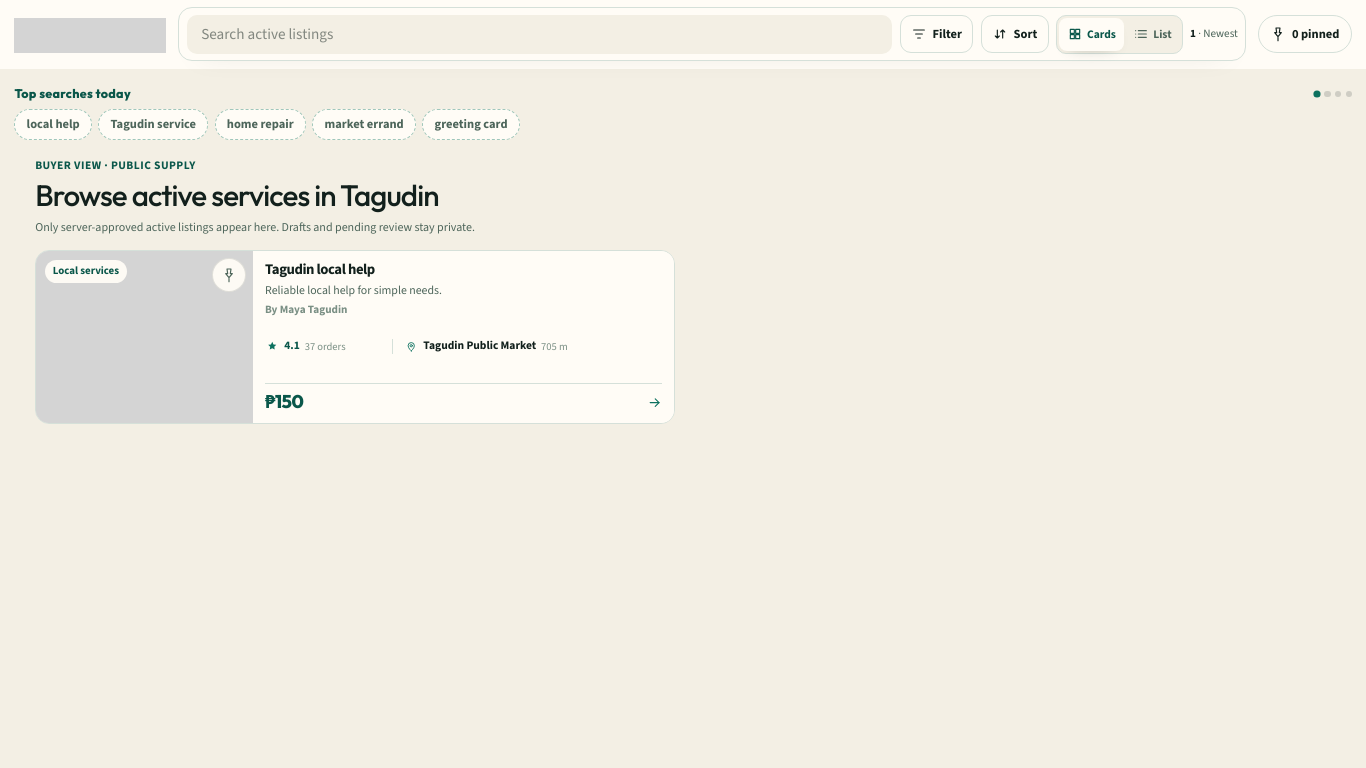
Scenario: BrowsePlp › pins a listing into the shortlist tray
The image size is (1366, 768).
Click the button named "Pin listing" at (229, 275), box [212,258,246,291]
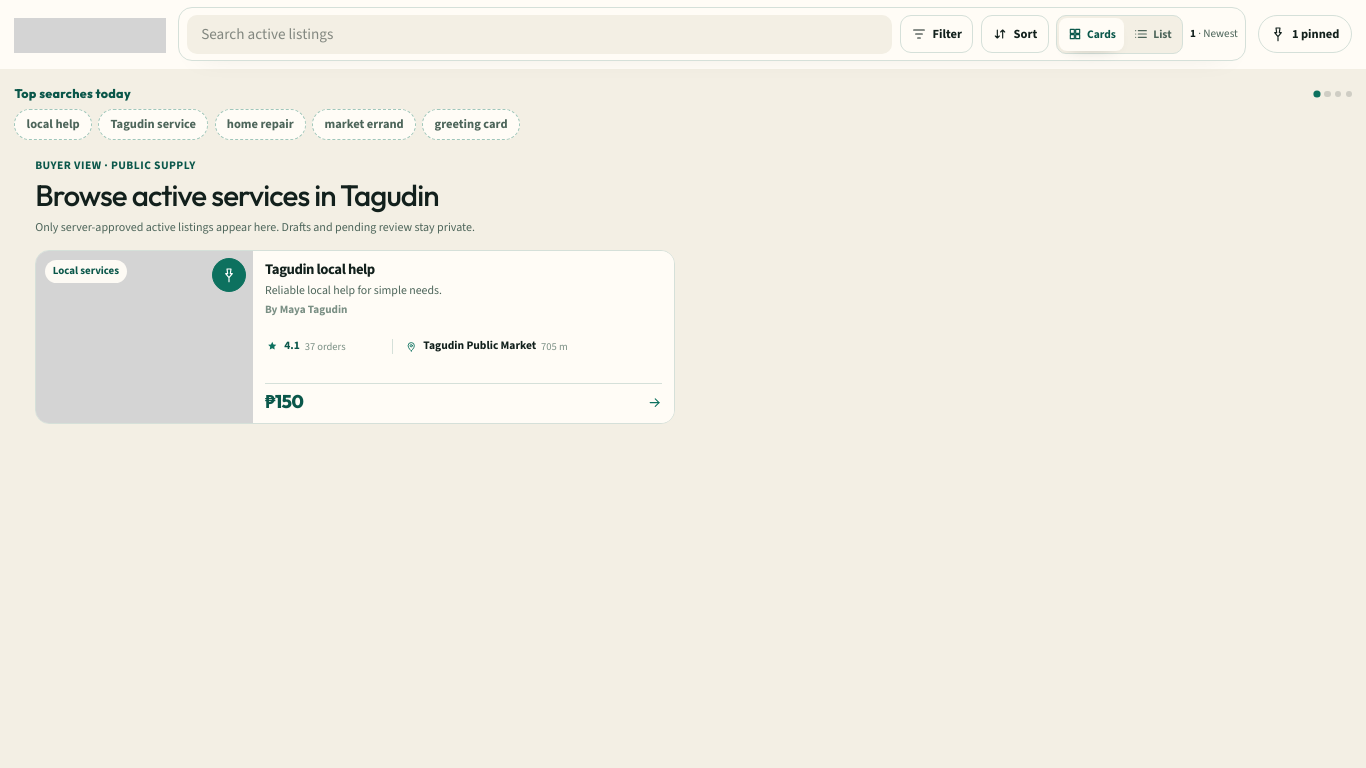
Click the button "1 pinned" at (1305, 34), box [1258,15,1352,53]
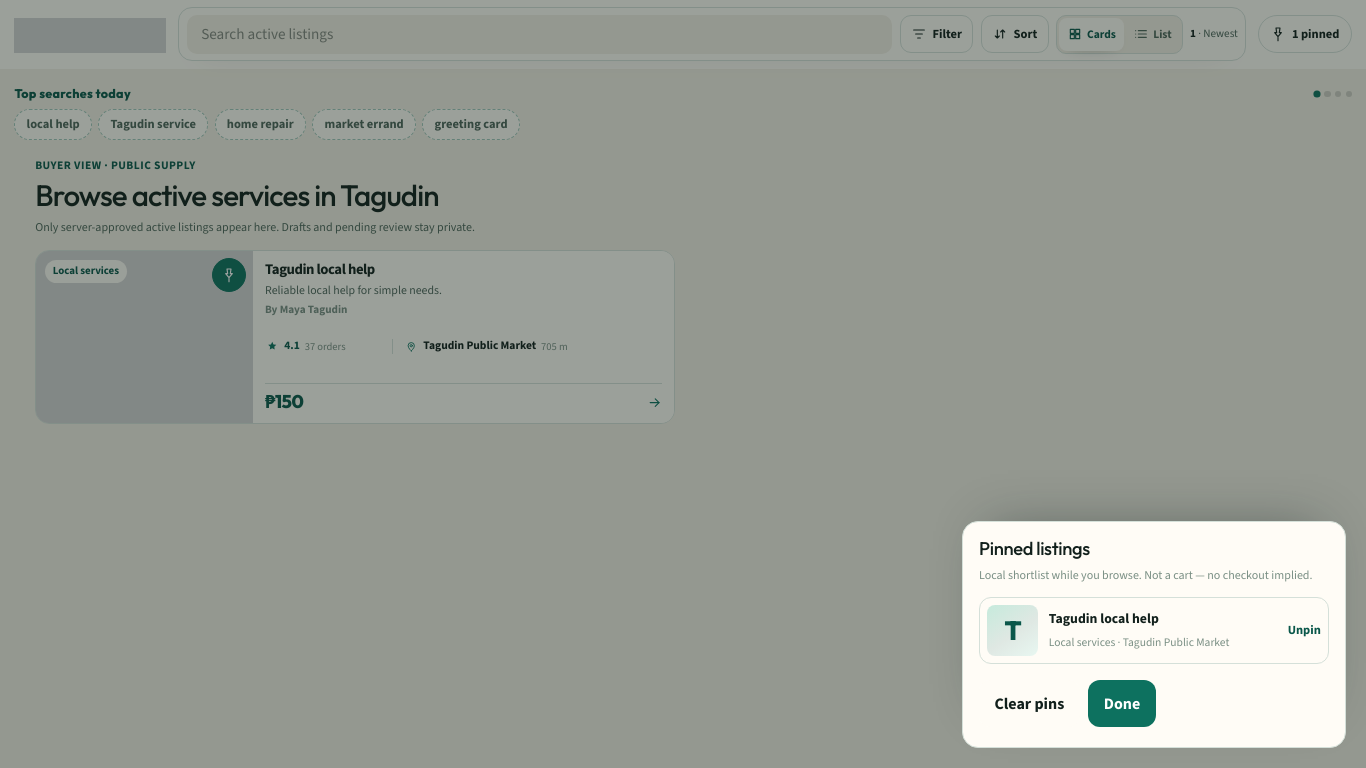
Now the text "Tagudin local help" is shown, box [1049,609,1159,627]
